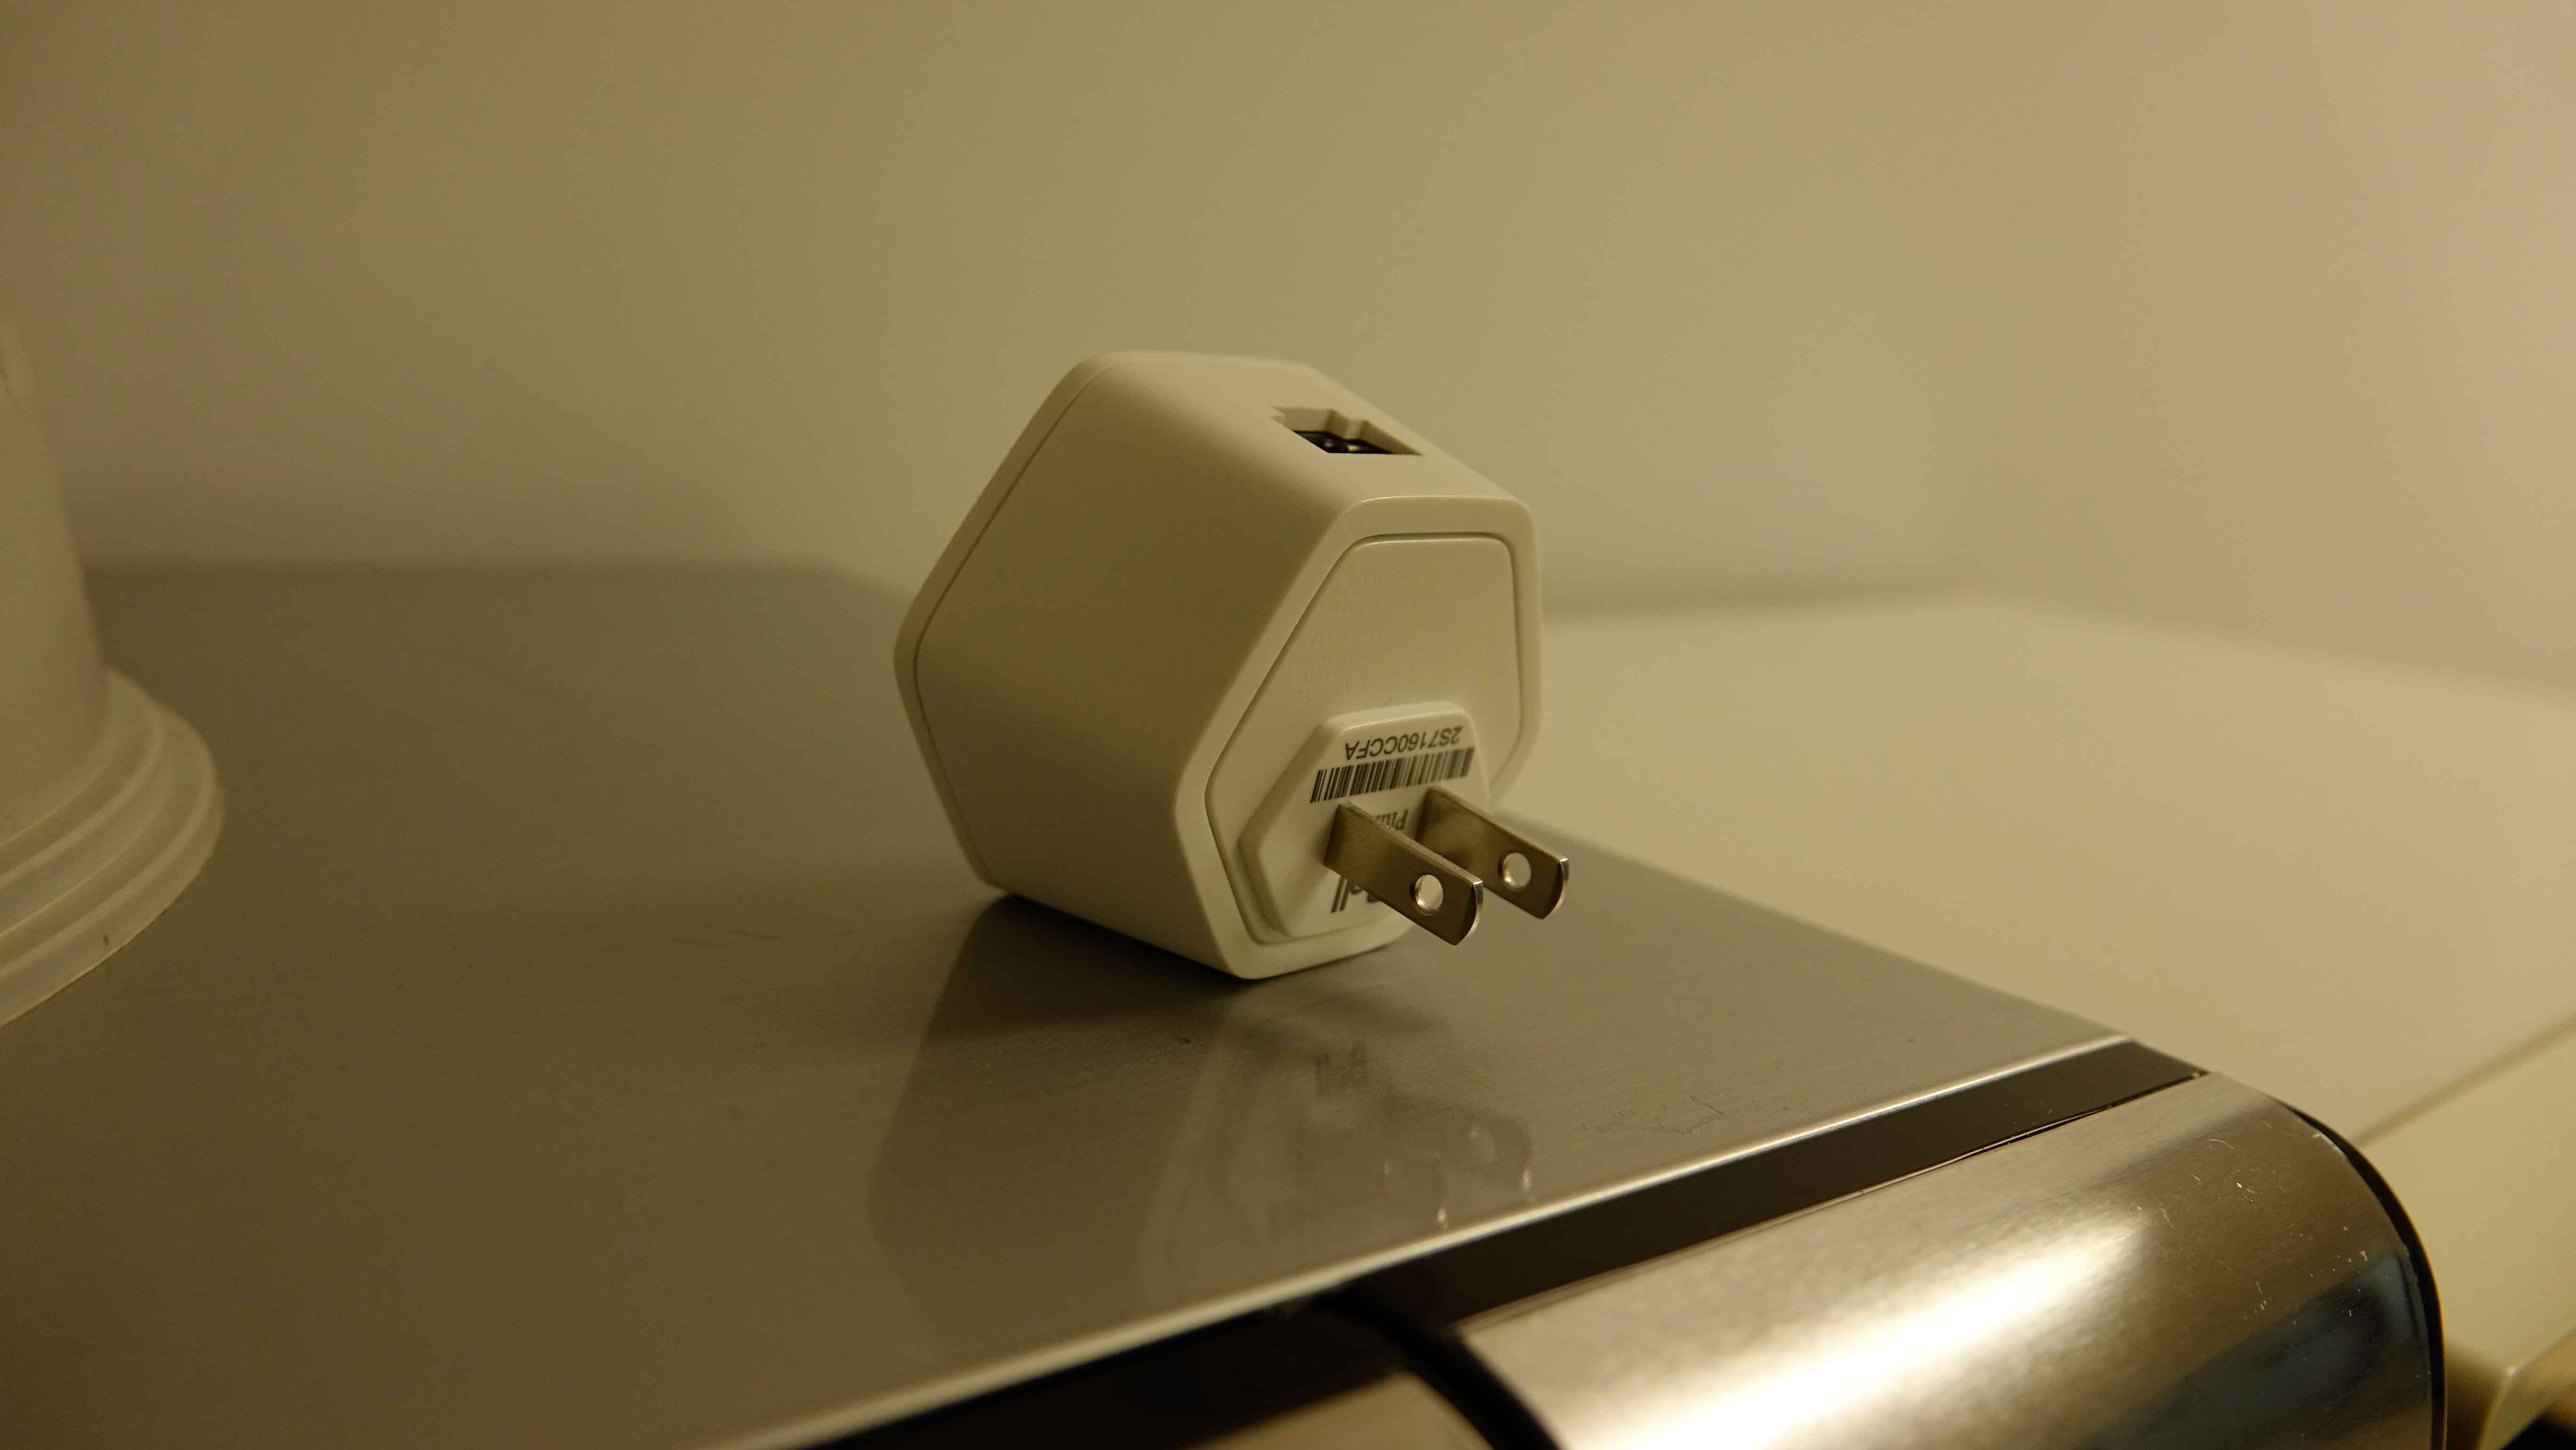pod: (876, 334, 1605, 999)
